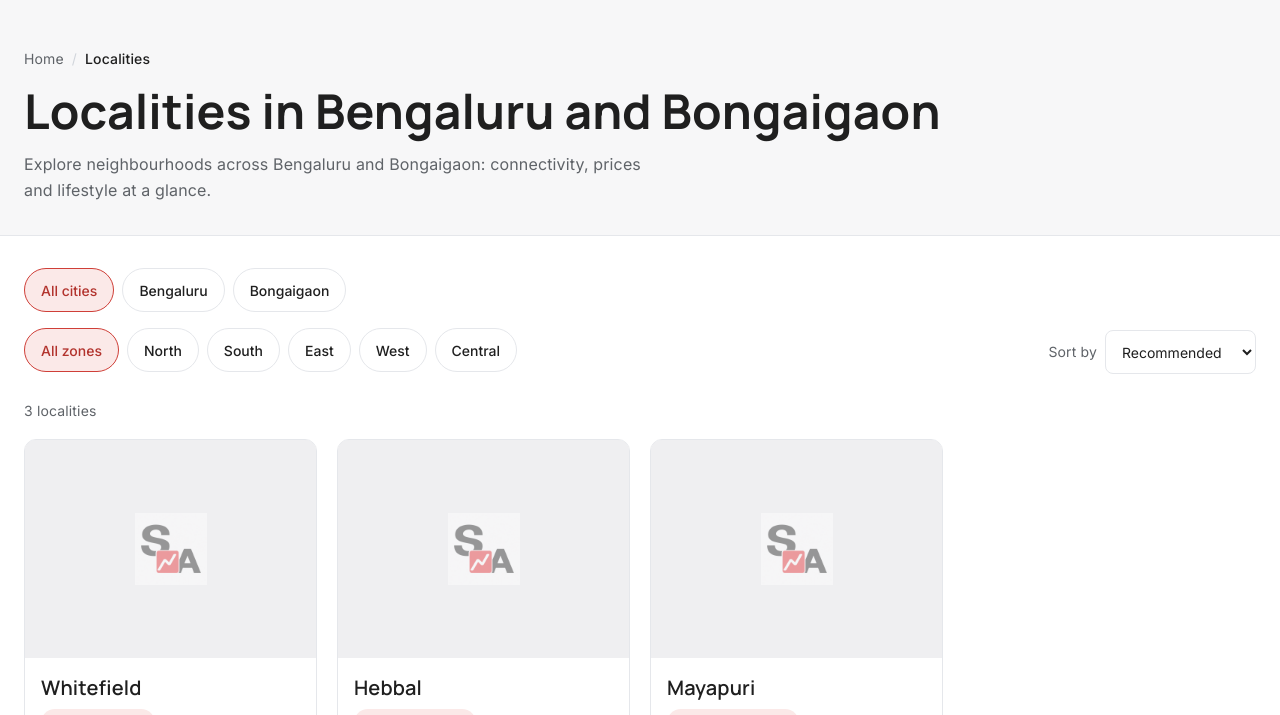
Test case: Localities › names every city, offers a chip for each, and becomes the one chosen
Expected: the heading "Localities in Bengaluru and Bongaigaon" is shown, [24,78,941,143]
Expected: the heading "Mayapuri" is shown, [667,674,756,701]
Click the button "Bongaigaon": coordinates (289, 290) [233,268,346,312]
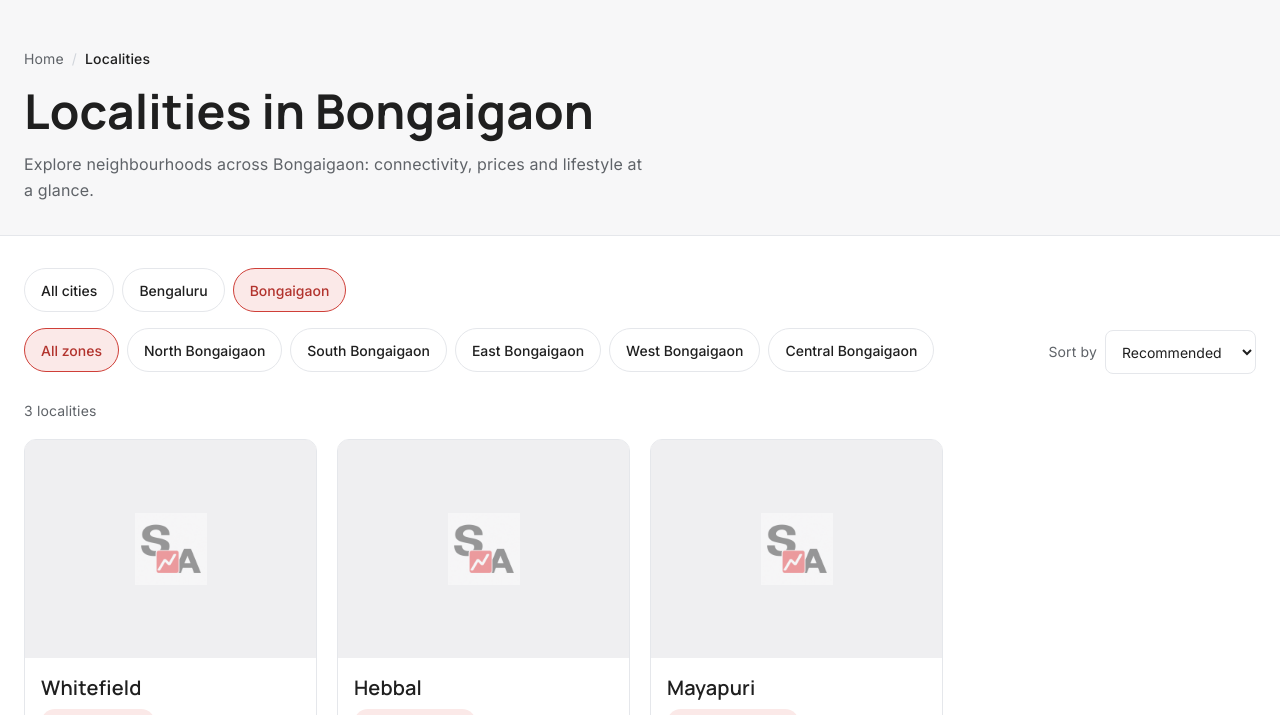
Expected: the heading "Localities in Bongaigaon" is shown, [24,78,594,143]
